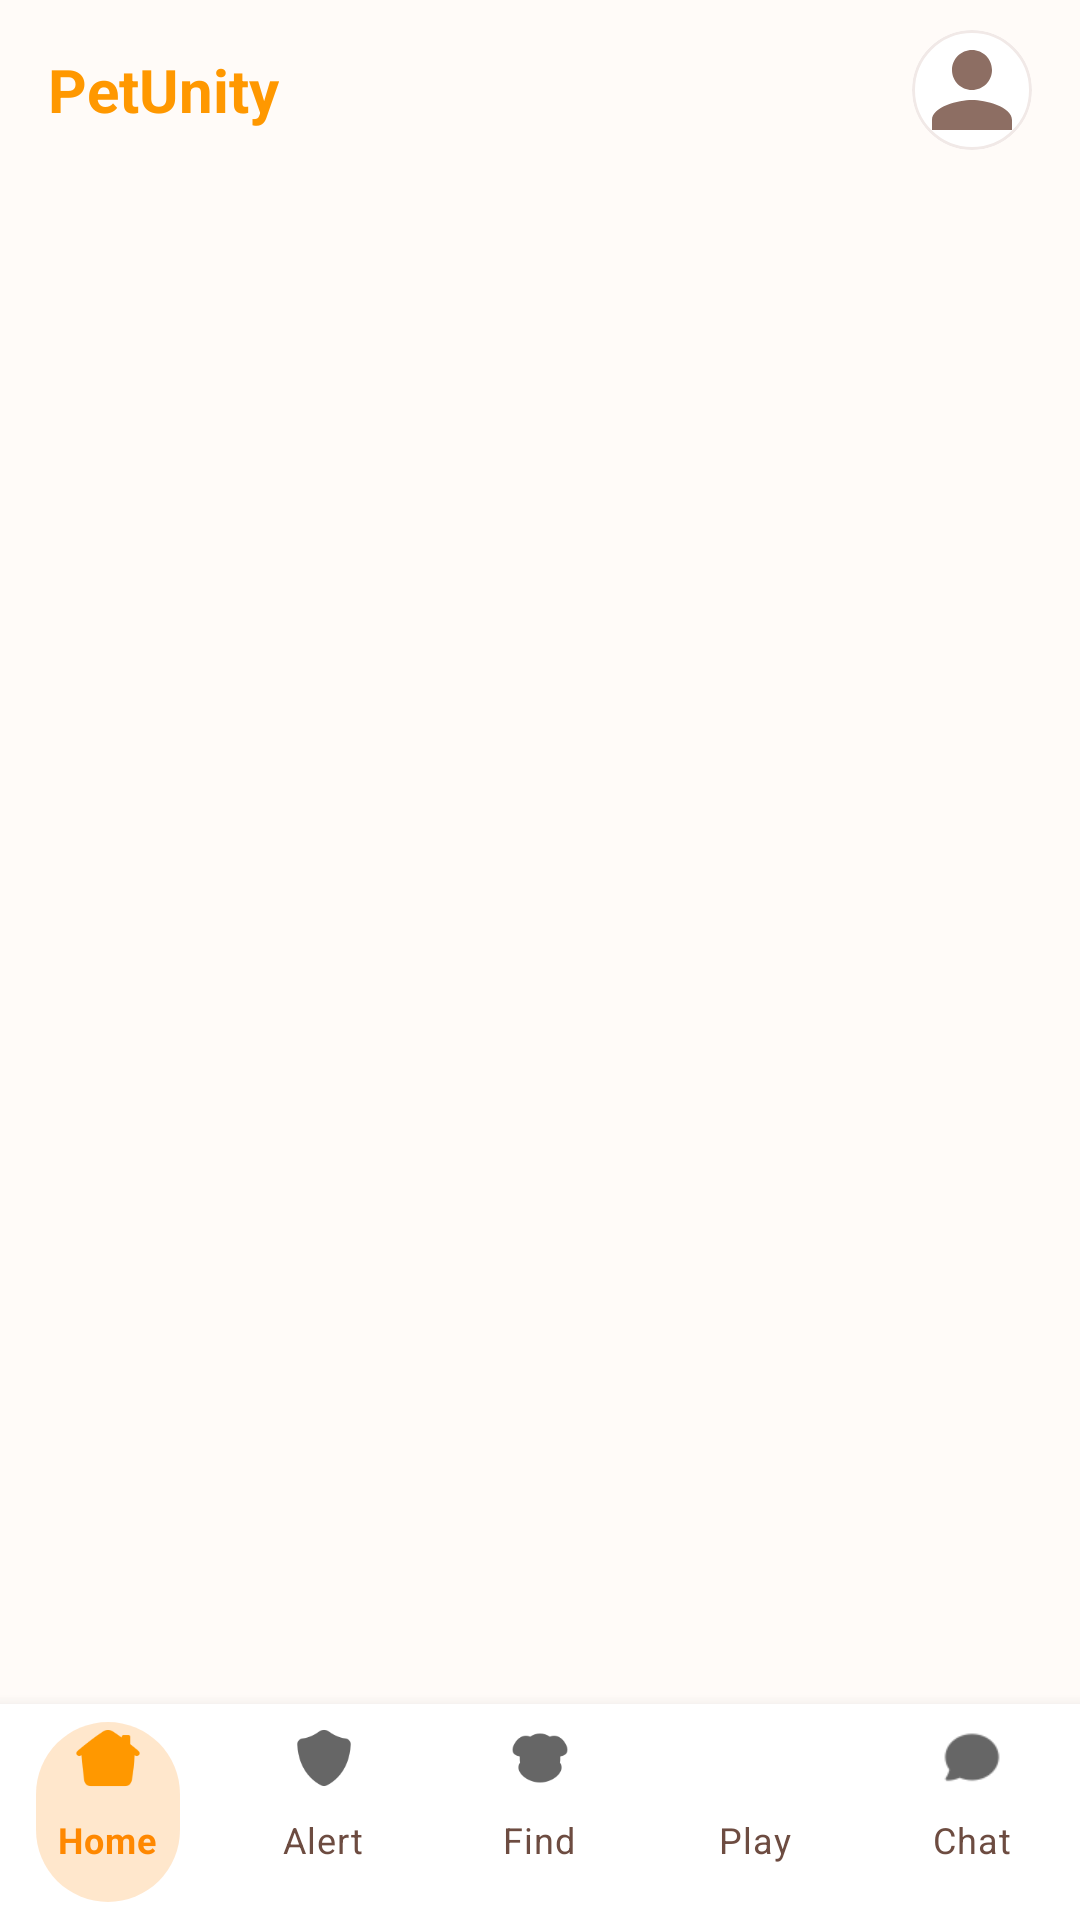

Where to tap for icons on this 1080px×1920px app screen, as [x,y]:
user: [972,90]
